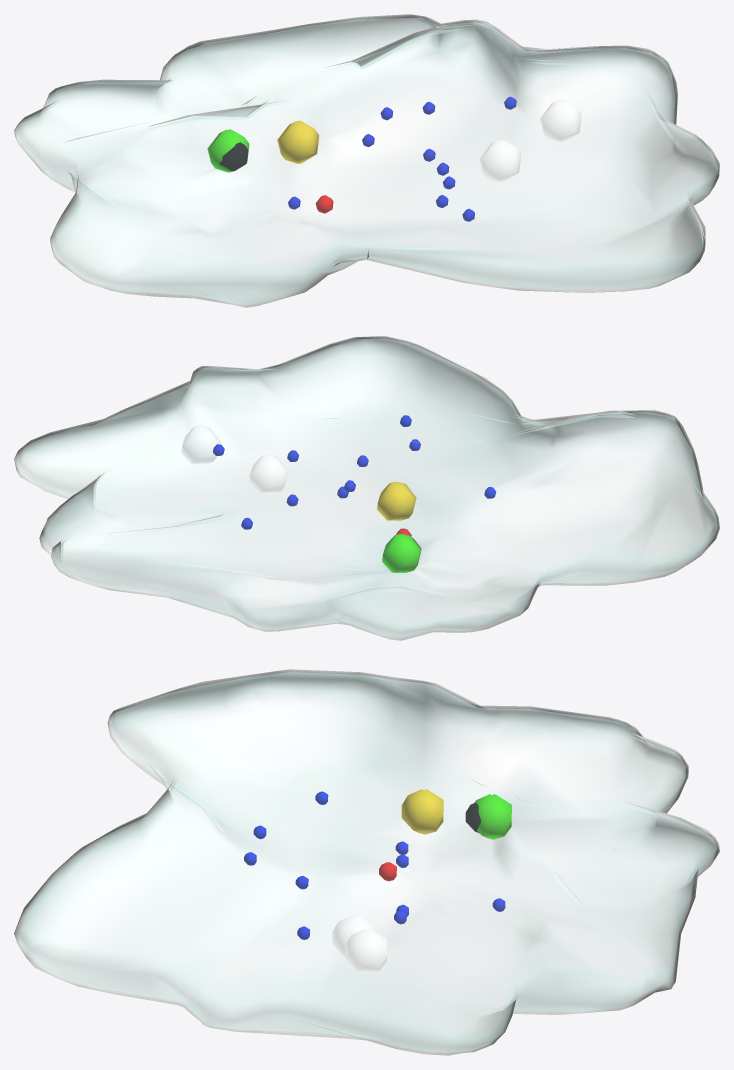
Rendered from Amoeba.glb.
3 renders of one model, top to bottom at view 1: azimuth 30°, elevation 25°; view 2: azimuth 150°, elevation 25°; view 3: azimuth 270°, elevation 25°, orthographic. The views are drawn at different scales.
Visible parts, largest first — view 1: Sphere, Sphere.016, Sphere.013, Sphere.001, Sphere.014, Sphere.015; view 2: Sphere, Sphere.016, Sphere.014, Sphere.001, Sphere.013; view 3: Sphere, Sphere.001, Sphere.013, Sphere.014, Sphere.016.
Part boxes in pixels (x1=…): Sphere: x1=14, y1=14, x2=719, y2=307; Sphere.016: x1=479, y1=139, x2=521, y2=182; Sphere.013: x1=540, y1=99, x2=581, y2=142; Sphere.001: x1=277, y1=120, x2=319, y2=163; Sphere.014: x1=207, y1=129, x2=249, y2=172; Sphere.015: x1=219, y1=142, x2=248, y2=171; Sphere: x1=14, y1=336, x2=719, y2=640; Sphere.016: x1=249, y1=454, x2=288, y2=493; Sphere.014: x1=382, y1=534, x2=421, y2=572; Sphere.001: x1=377, y1=481, x2=416, y2=520; Sphere.013: x1=181, y1=425, x2=220, y2=464; Sphere: x1=14, y1=669, x2=719, y2=1055; Sphere.001: x1=401, y1=789, x2=443, y2=834; Sphere.013: x1=345, y1=929, x2=387, y2=974; Sphere.014: x1=474, y1=794, x2=511, y2=839; Sphere.016: x1=332, y1=915, x2=374, y2=956.
Bounding box in the file's own units: 2.96 × 0.5696 × 2.58.
